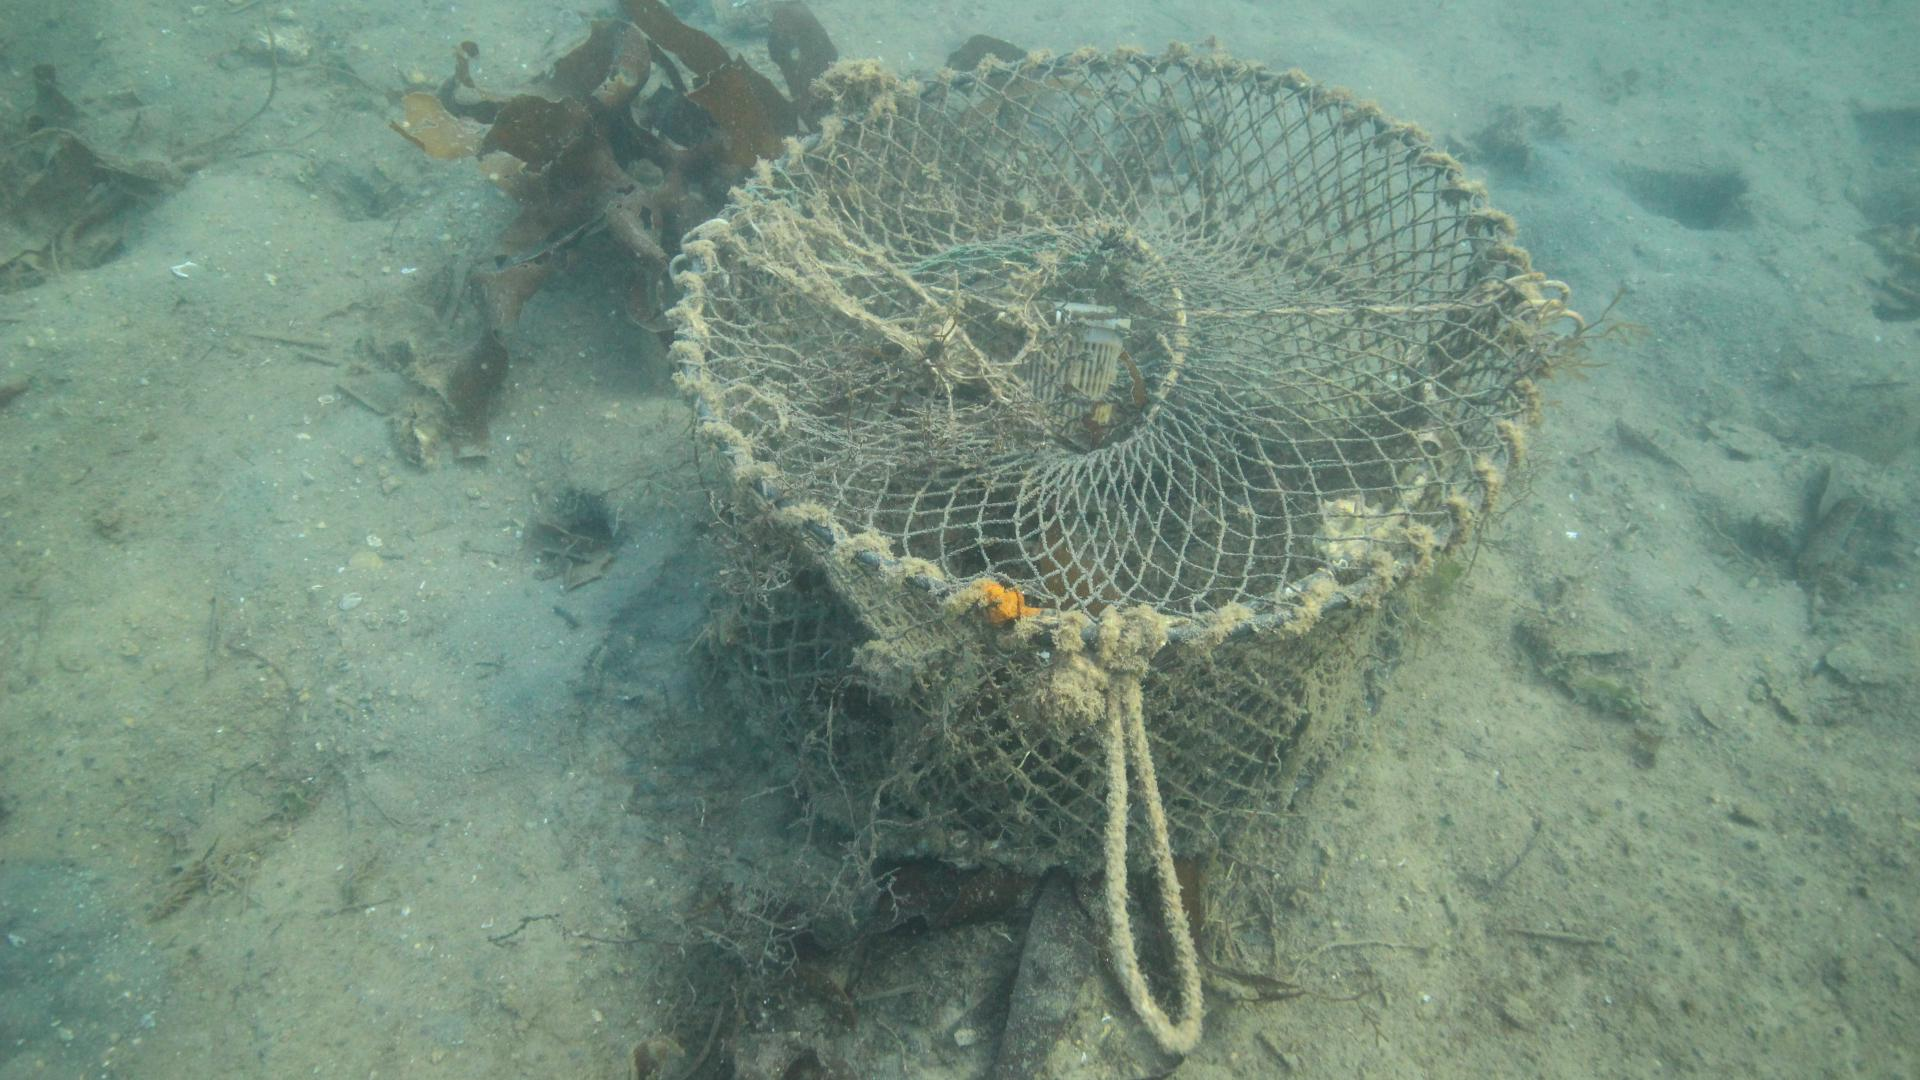circular fish trap: (666, 49, 1549, 880)
rope: (1104, 655, 1205, 1054)
